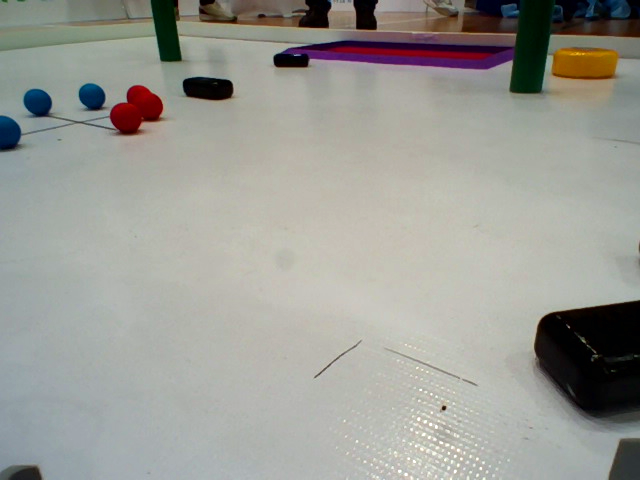black: (178, 68, 241, 105), (266, 48, 321, 74)
blue: (18, 84, 61, 124), (76, 77, 109, 118), (1, 113, 24, 155)
kuang: (285, 28, 517, 80)
red: (110, 102, 148, 143), (138, 92, 176, 132), (127, 84, 156, 110)
yellow: (544, 47, 628, 87)
zhuzi: (508, 1, 555, 98), (146, 1, 190, 69)
